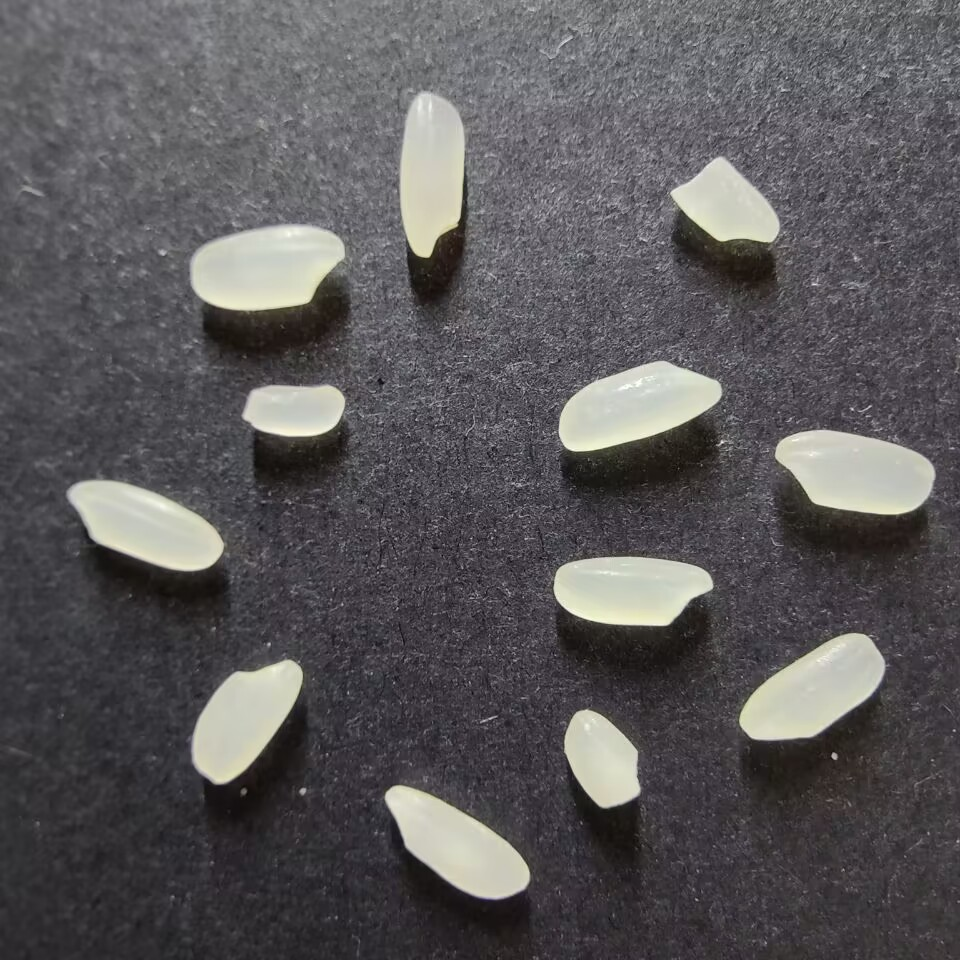broken: (669, 154, 781, 243), (563, 709, 640, 808), (242, 383, 345, 436)
rice: (382, 784, 530, 899), (738, 632, 884, 741), (557, 359, 723, 451), (66, 479, 223, 570), (190, 658, 302, 784), (773, 429, 934, 514), (189, 224, 345, 311), (552, 555, 713, 627), (398, 92, 465, 258)
